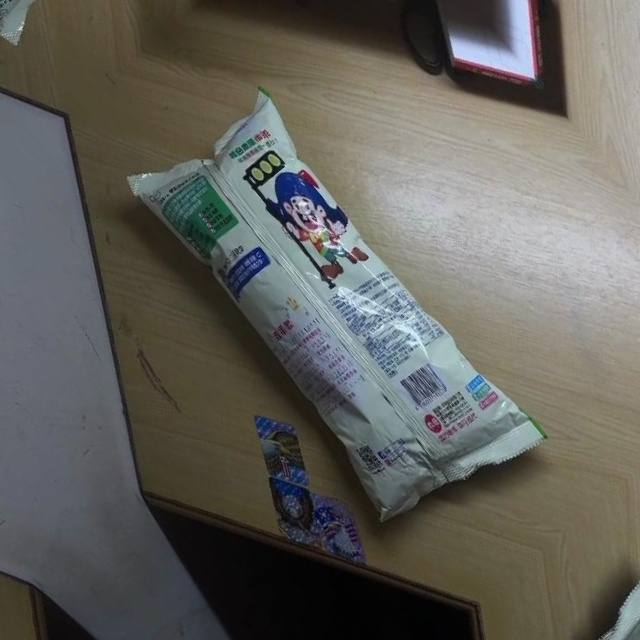Good-Luck: (107, 73, 552, 555)
